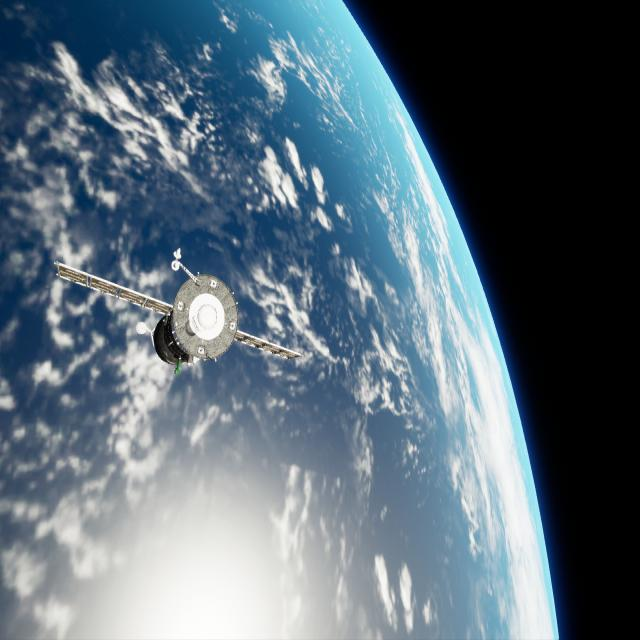Satellites revolving around earth: (52, 246, 302, 377)
